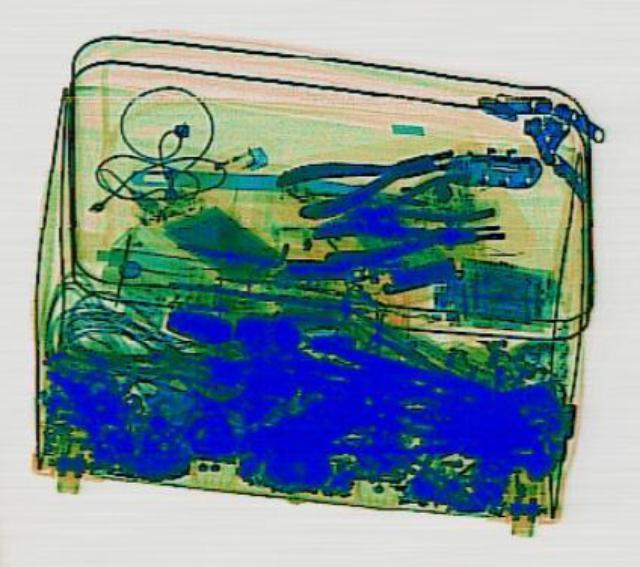Pliers: (267, 126, 465, 226), (306, 164, 496, 246), (309, 205, 507, 268)
